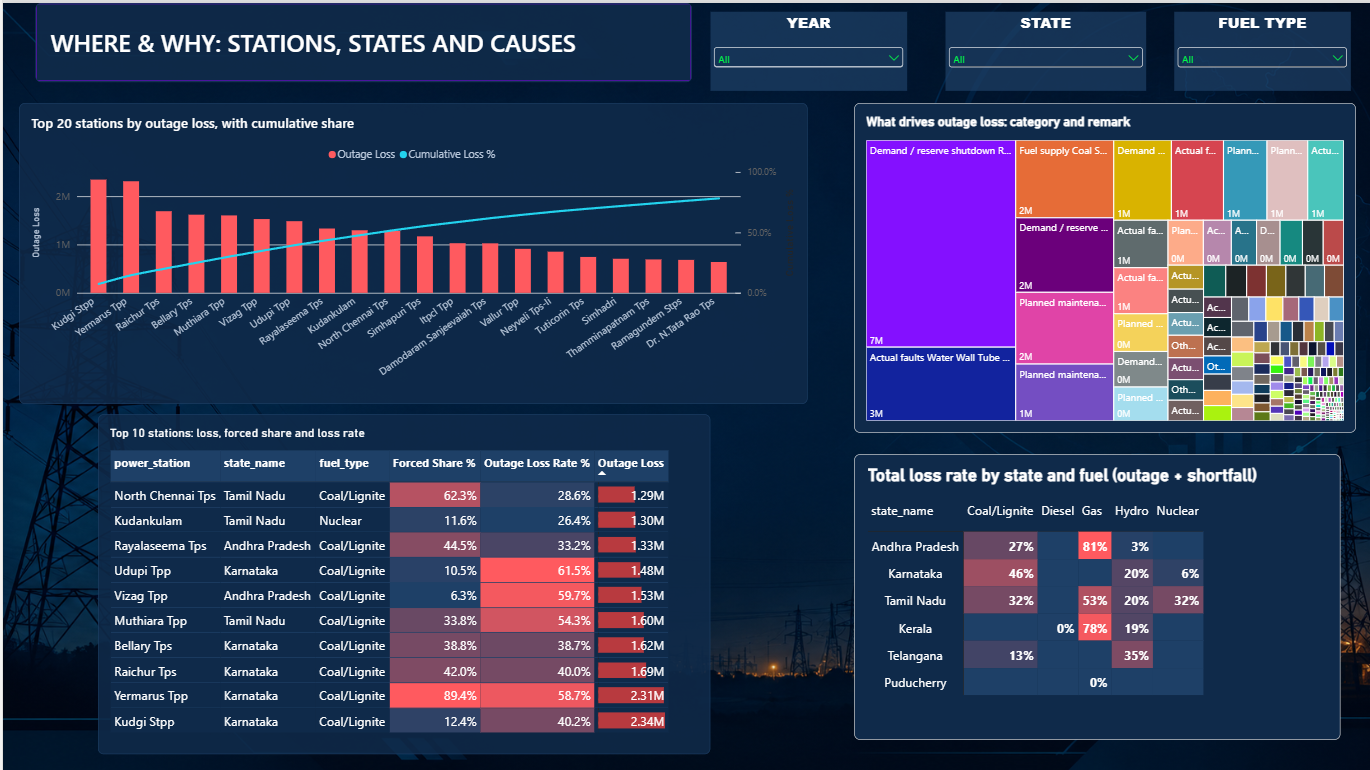

The page's visual inventory and layout, read from the dashboard file:
{"tool":"powerbi","page":{"name":"Where & Why","canvas":[1920,1080],"ordinal":1},"visuals":[{"type":"shape","box":[45,0,916,110],"z":0},{"type":"slicer","title":"YEAR","fields":{"Values":["Dim_Date.Year"]},"box":[986.5,11.7,274,110],"z":1000},{"type":"slicer","title":"FUEL TYPE","fields":{"Values":["Dim_Fuel.fuel_type"]},"box":[1634.7,11.7,246,110],"z":2000},{"type":"slicer","title":"STATE","fields":{"Values":["Dim_State.state_name"]},"box":[1314.8,11.7,280,110],"z":3000},{"type":"lineClusteredColumnComboChart","title":"Top 20 stations by outage loss, with cumulative share","fields":{"Category":["Data.power_station"],"Y":["_Measures.Outage Loss"],"Y2":["_Measures.Cumulative Loss %"]},"box":[22,140,1100,420],"z":4000},{"type":"pivotTable","title":"Total loss rate by state and fuel (outage + shortfall)","fields":{"Columns":["Data.fuel_type"],"Rows":["Data.state_name"],"Values":["_Measures.Loss Rate %"]},"box":[1188,630,678,398],"z":5000},{"type":"treemap","title":"What drives outage loss: category and remark","fields":{"Group":["Data.Cause Group","Data.remarks"],"Values":["_Measures.Outage Loss"]},"box":[1188,140,700,460],"z":6000},{"type":"tableEx","title":"Top 10 stations: loss, forced share and loss rate","fields":{"Values":["Data.power_station","Data.state_name","Data.fuel_type","_Measures.Forced Share %","_Measures.Outage Loss Rate %","_Measures.Outage Loss"]},"box":[132,574,854,474],"z":7000}]}

Visuals, with their boxes in screenshot pixels (x1, y1, x2, y2), scaled from the page's 1920x1080 canvas onto the 1370x770 screenshot:
shape: region(32, 0, 686, 78)
"YEAR" slicer: region(704, 8, 899, 87)
"FUEL TYPE" slicer: region(1166, 8, 1342, 87)
"STATE" slicer: region(938, 8, 1138, 87)
"Top 20 stations by outage loss, with cumulative share" lineClusteredColumnComboChart: region(16, 100, 801, 399)
"Total loss rate by state and fuel (outage + shortfall)" pivotTable: region(848, 449, 1331, 733)
"What drives outage loss: category and remark" treemap: region(848, 100, 1347, 428)
"Top 10 stations: loss, forced share and loss rate" tableEx: region(94, 409, 704, 747)
